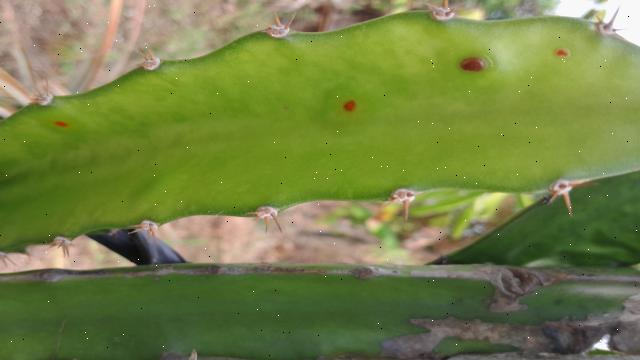stemcanker: (332, 91, 368, 118), (455, 53, 491, 80), (46, 111, 86, 134), (548, 43, 579, 65)
